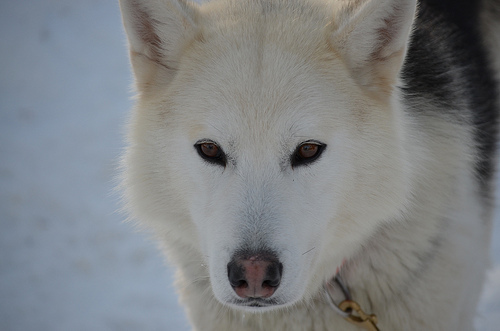dog: (119, 0, 499, 330)
